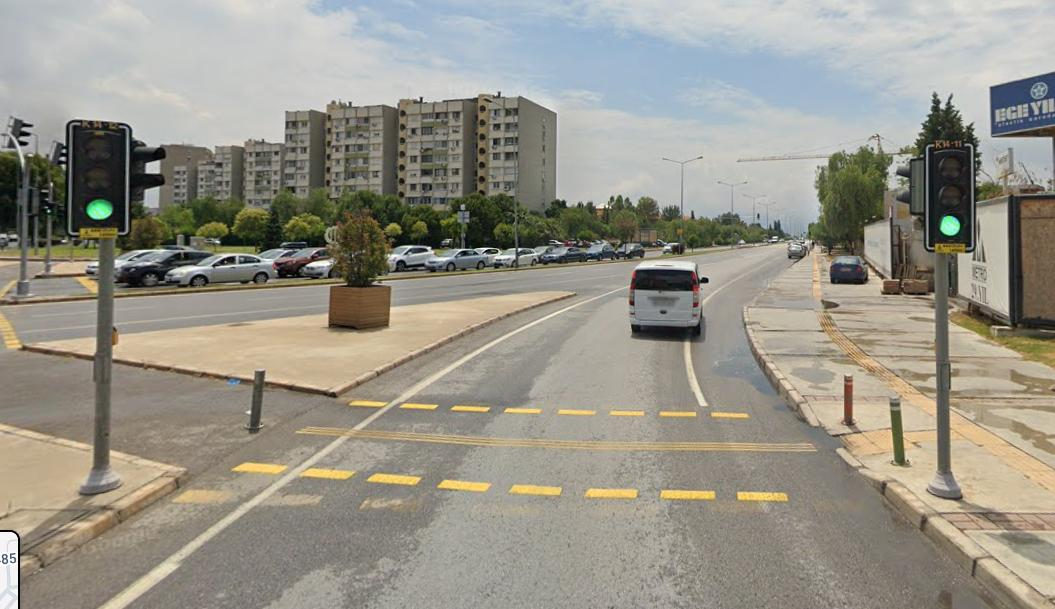greenlight: (65, 121, 128, 235), (924, 139, 976, 251)
